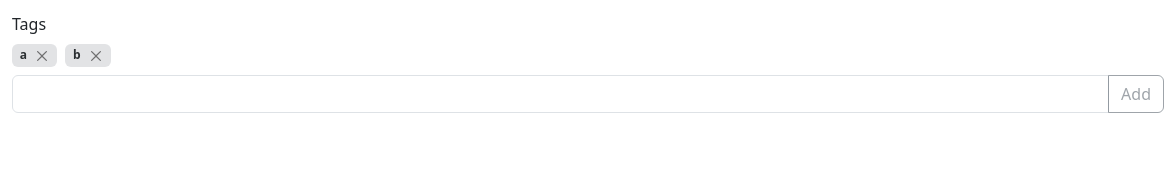
Scenario: TagListEditor › rejects values beyond the maximum count
This screenshot has width=1176, height=172.
In the field labelled "Tags": (561, 94) [12, 75, 1109, 113], type "c"
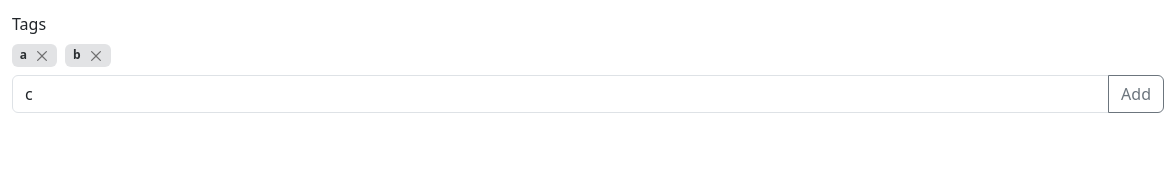
Press Enter in the field labelled "Tags", box [12, 75, 1109, 113]
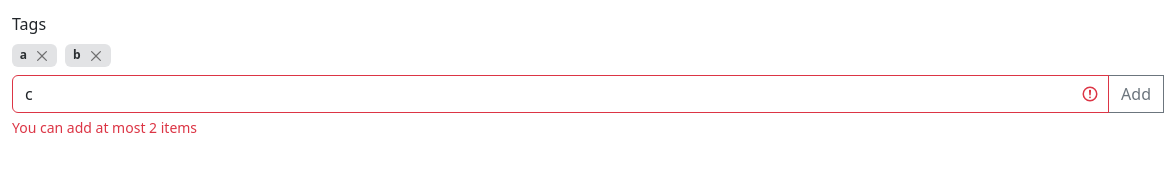
Now the text "You can add at most 2 items" is shown, box [12, 118, 197, 137]
